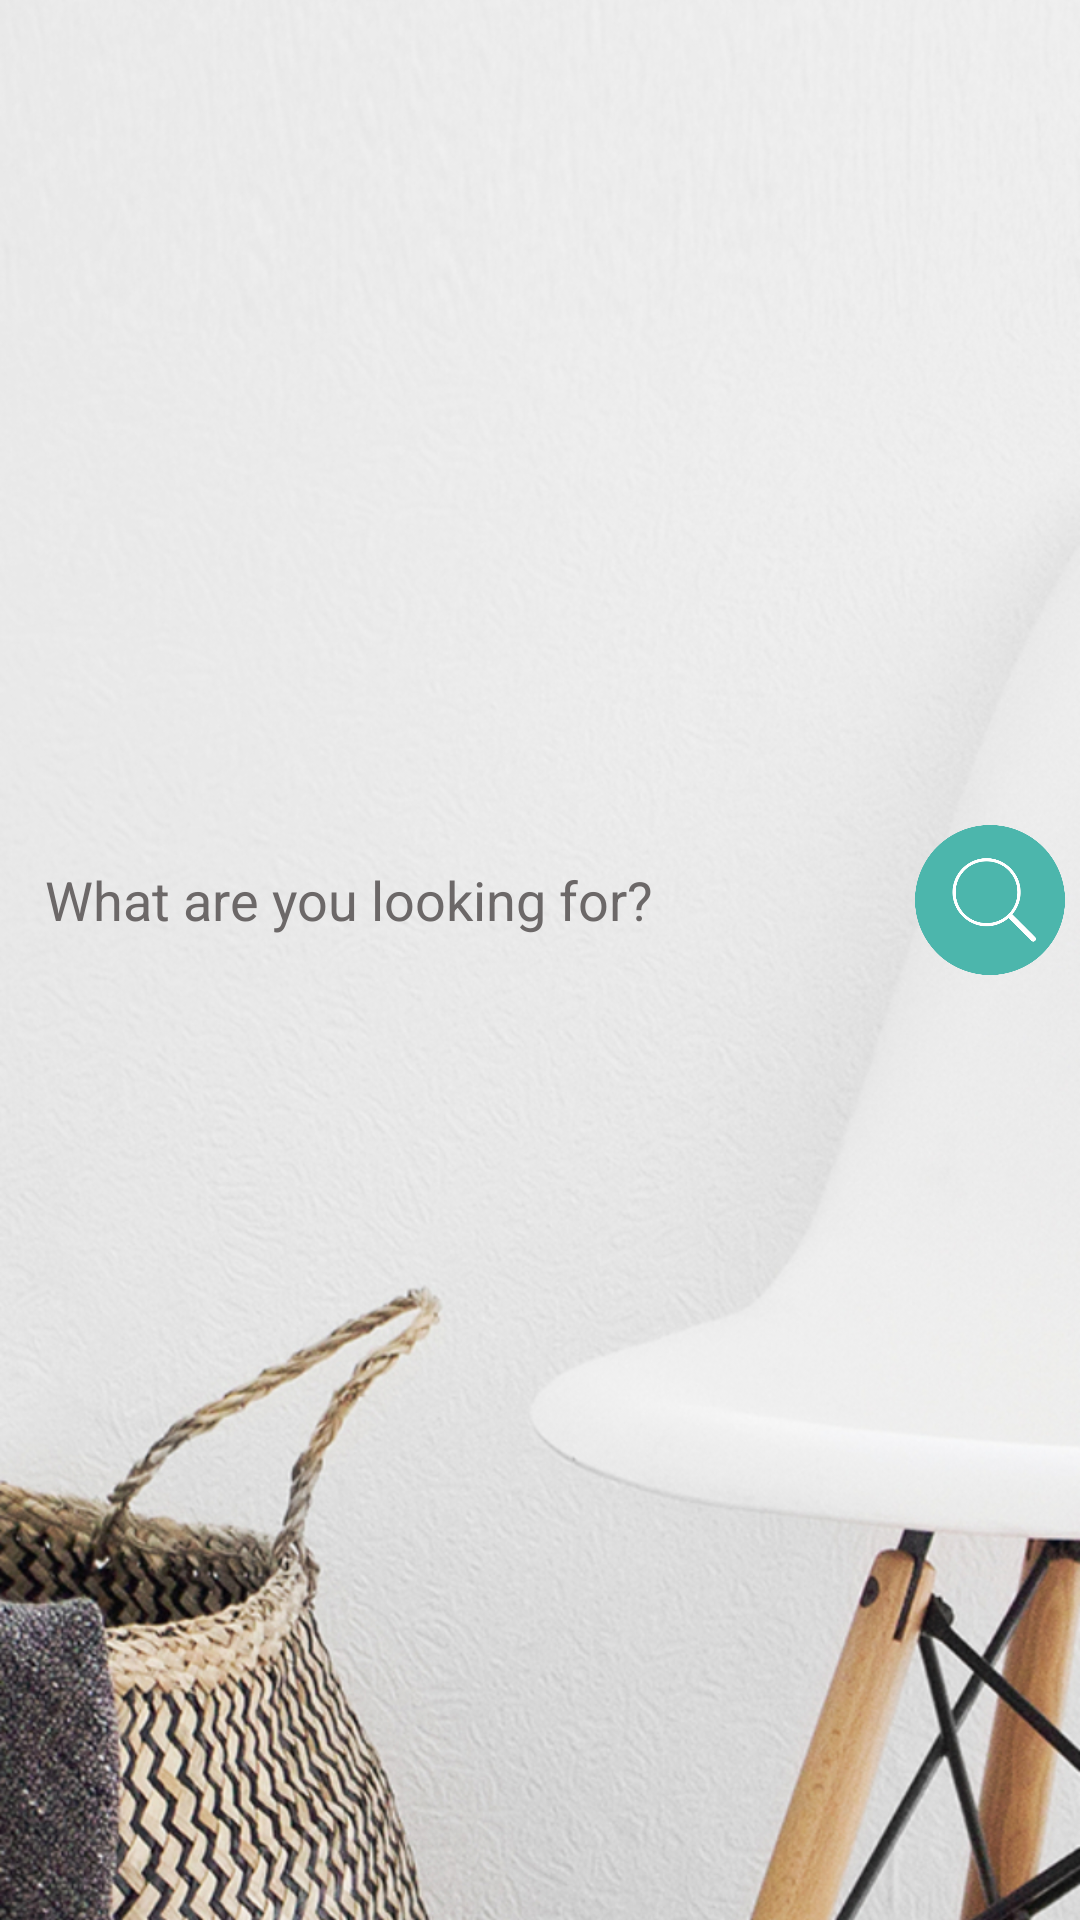

Named icons in this screenshot (1080w x 1920h) and their bounding boxes, (x1, y1, x2, y2):
searchiconround: (915, 825, 1065, 975)
